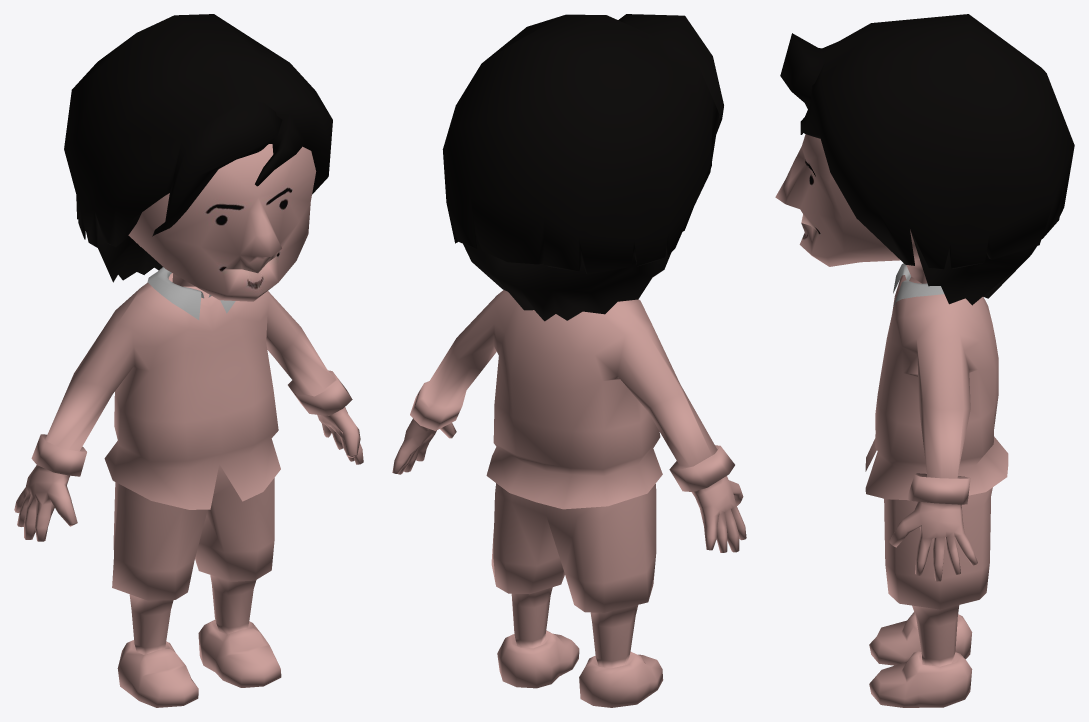
The model's file is patrick_face_keys.fbx.
The picture shows the model from 3 angles, left to right: view 1: azimuth 30°, elevation 25°; view 2: azimuth 150°, elevation 25°; view 3: azimuth 270°, elevation 25°; orthographic projection.
Visible parts, largest first — view 1: Body, Hair, Head, ShirtNeck; view 2: Body, Hair; view 3: Hair, Body, Head, ShirtNeck.
Part boxes in pixels (x1,y1,x2,y2): Body: [14, 273, 363, 707]; Hair: [64, 14, 332, 282]; Head: [128, 144, 316, 301]; ShirtNeck: [147, 267, 235, 319]; Body: [392, 290, 746, 707]; Hair: [442, 14, 723, 321]; Hair: [780, 14, 1074, 305]; Body: [865, 275, 1008, 707]; Head: [775, 134, 927, 283]; ShirtNeck: [893, 263, 944, 306].
Bounding box in the file's own units: 490 × 913 × 382.
